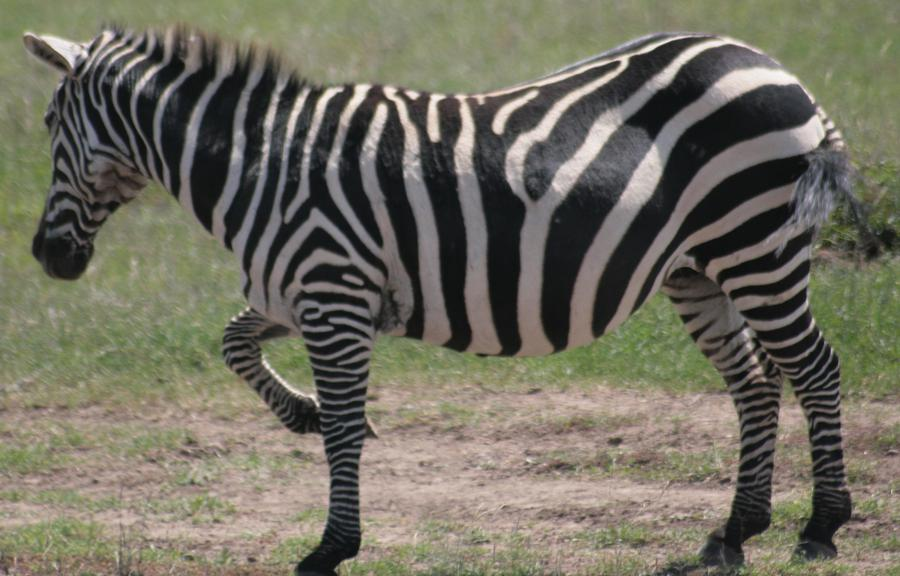zebra_plains: (238, 75, 828, 311)
